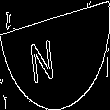N_N: (40, 26, 70, 84)
